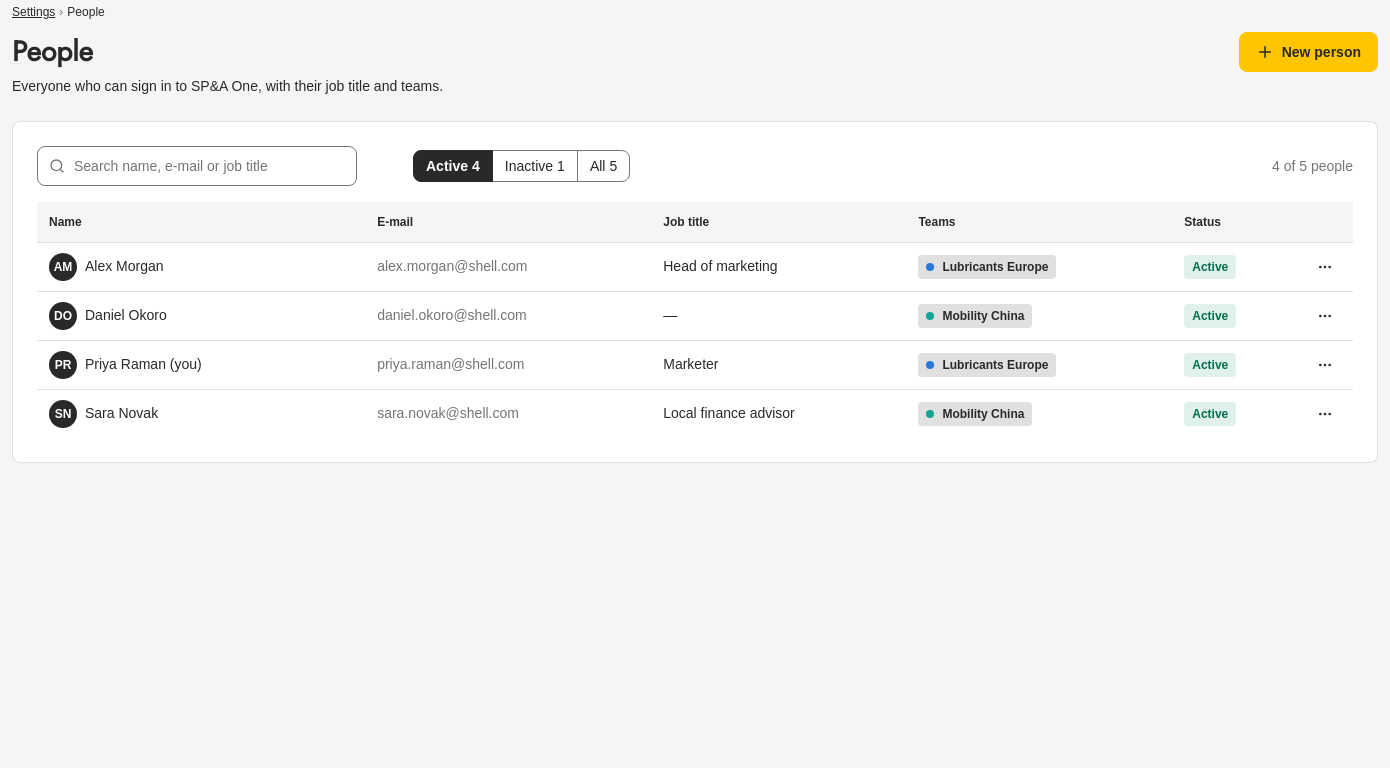
Test: PeoplePage (feature 003, US1): Deactivate and Reactivate › deactivates someone who owns nothing at once, with Undo (design system §6.7)
Click the button named "Actions for Sara Novak" at (1325, 414), box top-left (1309, 398), bottom-right (1341, 430)
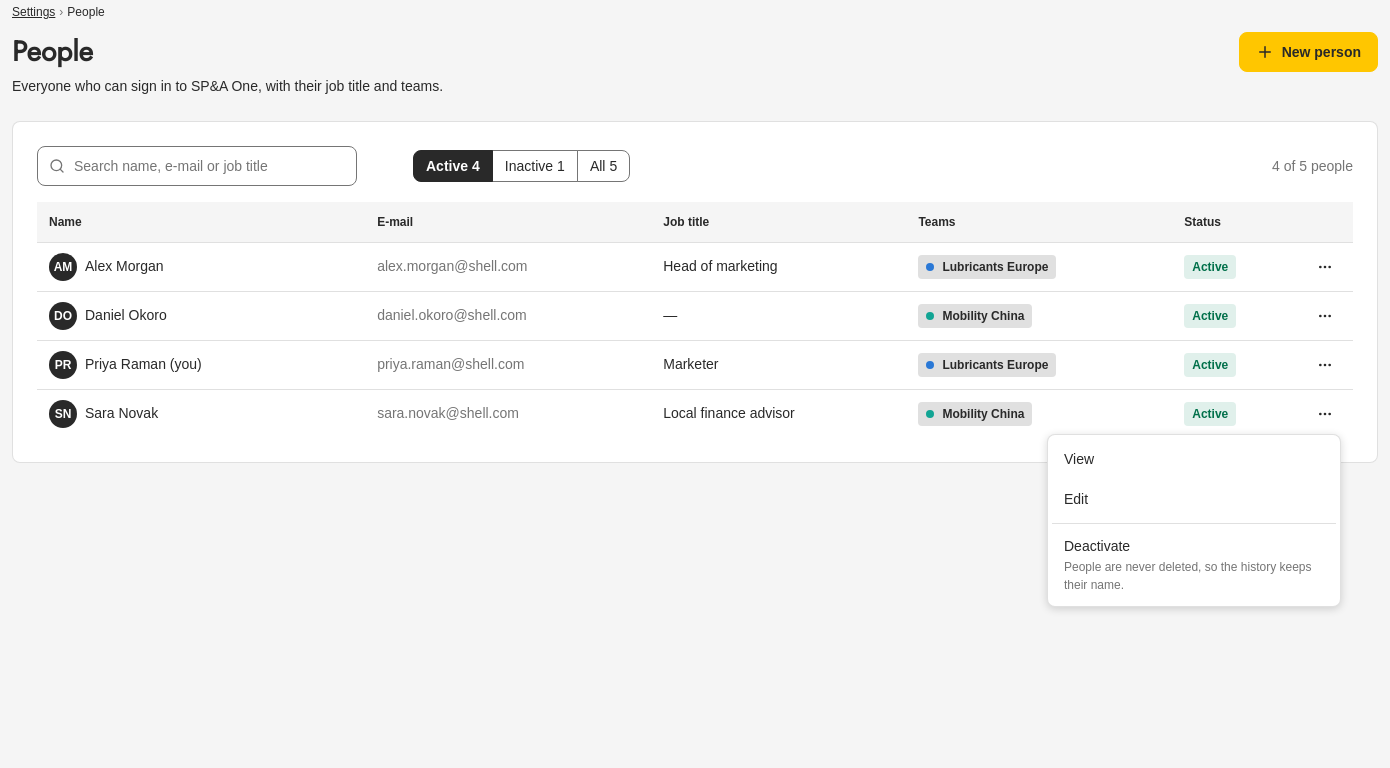
Click the menu item "Deactivate" at (1194, 565), box top-left (1052, 528), bottom-right (1336, 602)
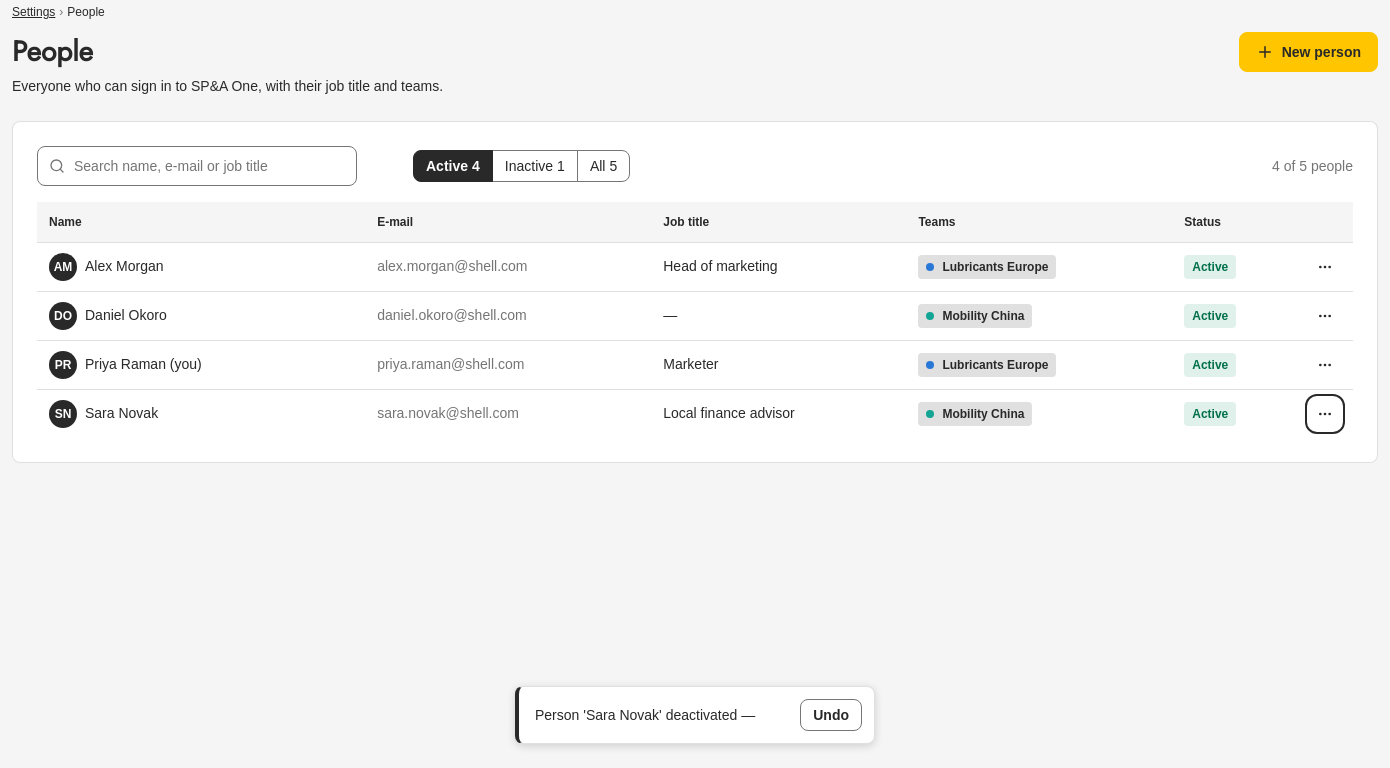
expect the text "Person 'Sara Novak' deactivated" is shown: met, box top-left (535, 706), bottom-right (741, 722)
Click the button "Undo" at (831, 715), box top-left (800, 699), bottom-right (862, 731)
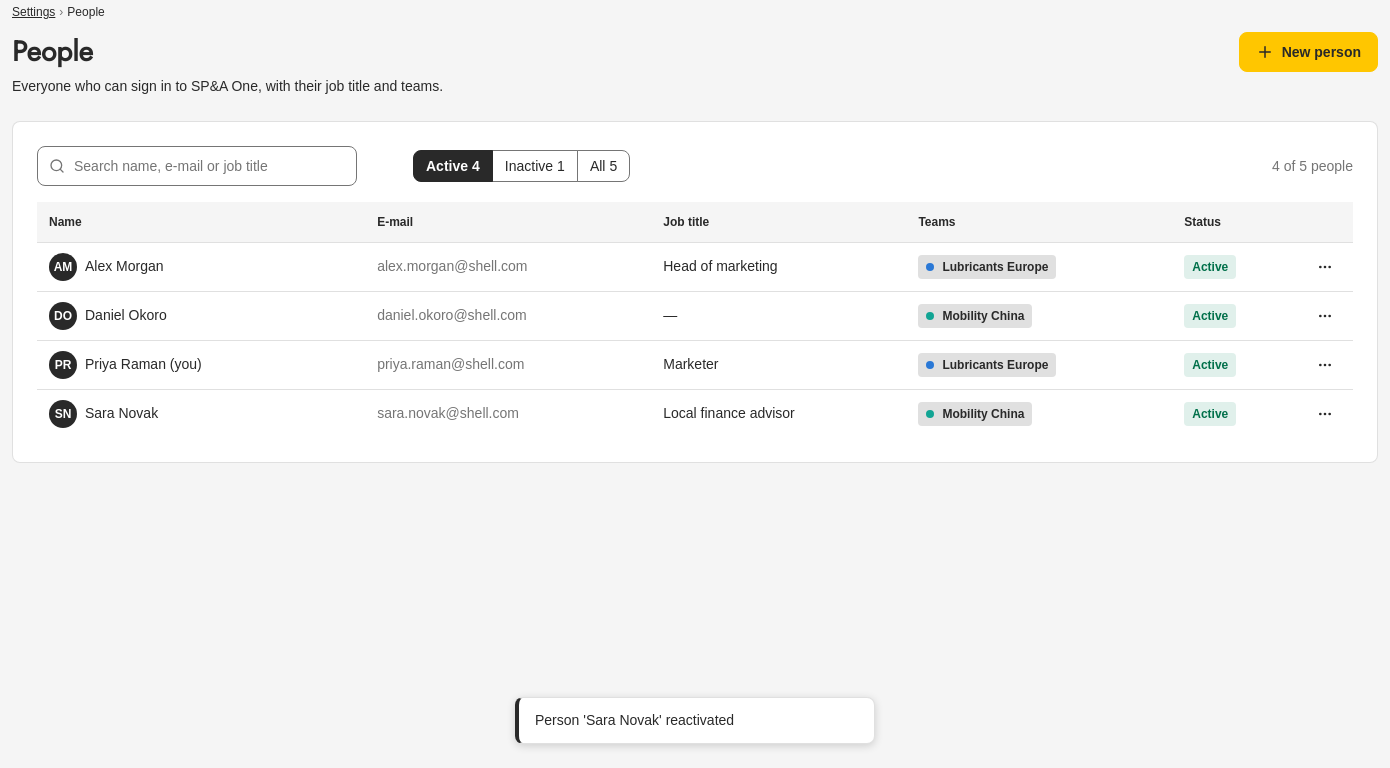
expect the text "Person 'Sara Novak' reactivated" is shown: met, box top-left (535, 712), bottom-right (734, 728)
